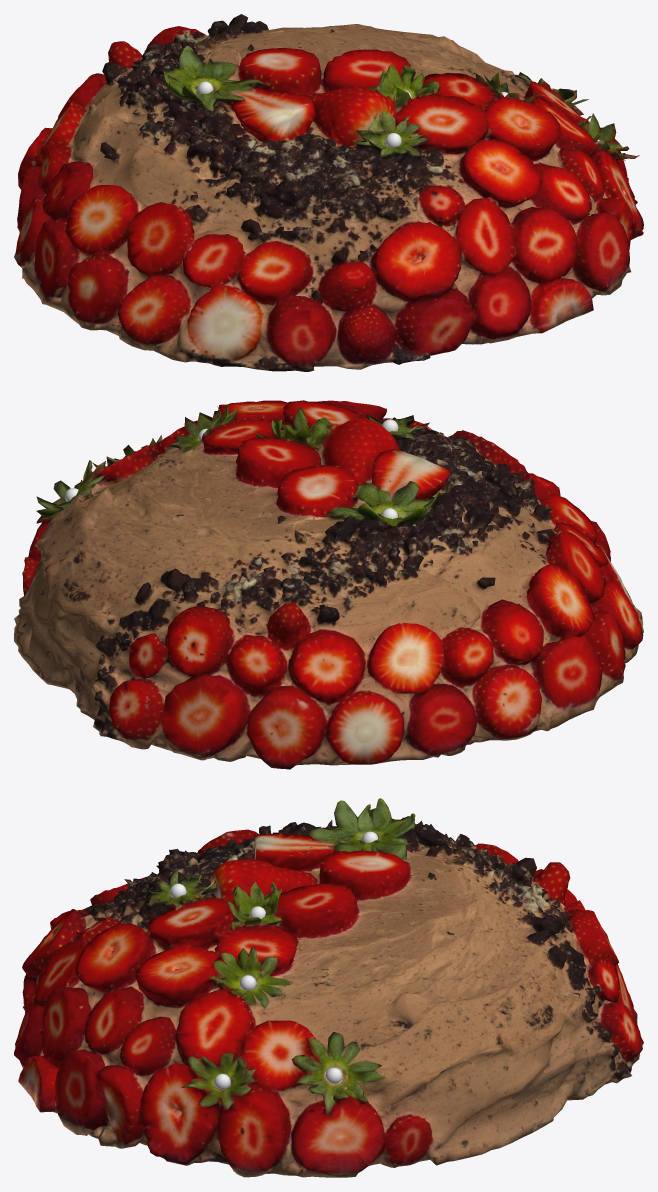
File: strawberry-chocolate-cake.glb
The picture shows the model from 3 angles, top to bottom: view 1: azimuth 30°, elevation 25°; view 2: azimuth 150°, elevation 25°; view 3: azimuth 270°, elevation 25°; orthographic projection. The views are drawn at different scales.
Parts seen in each view (by area): view 1: strawberry_chocolate_cake; view 2: strawberry_chocolate_cake; view 3: strawberry_chocolate_cake.
Part boxes in pixels (x1=…): strawberry_chocolate_cake: x1=14, y1=14, x2=643, y2=371; strawberry_chocolate_cake: x1=14, y1=400, x2=643, y2=769; strawberry_chocolate_cake: x1=14, y1=798, x2=643, y2=1177.
Size of the model in its own units: 0.244 by 0.0791 by 0.24.
1 material, 1 textured.
